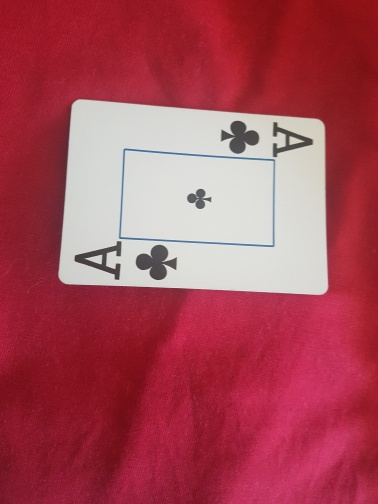ace: (60, 97, 328, 294)
